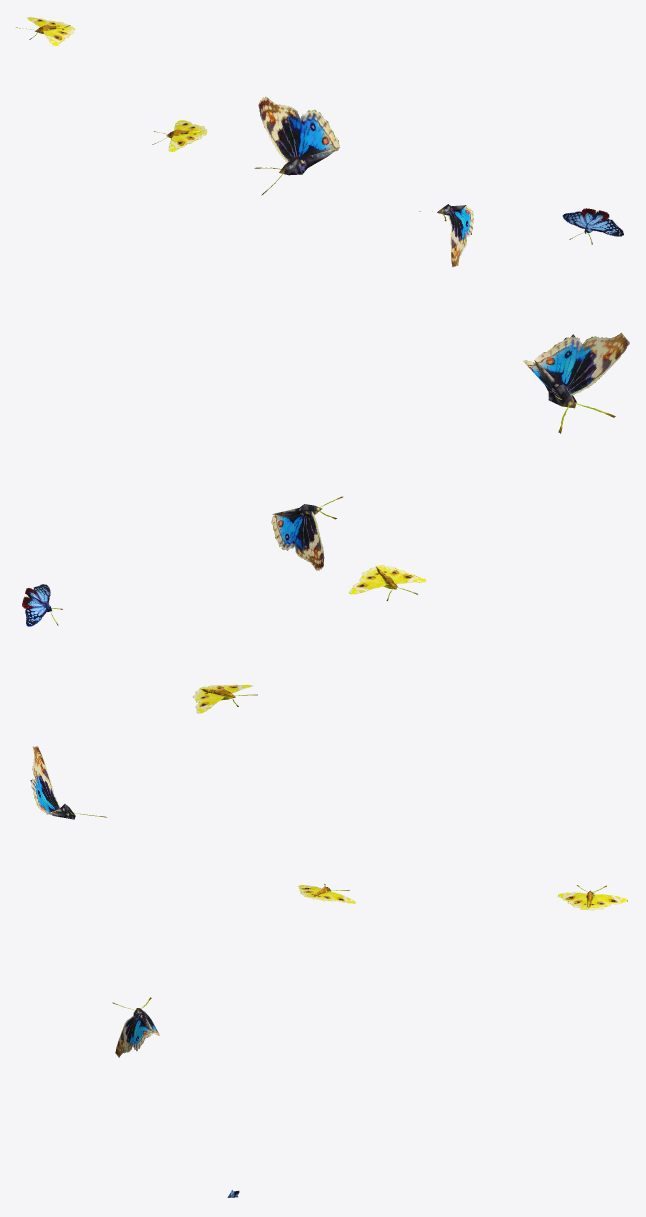
The model's file is nml-bd199.glb.
The picture shows the model from 3 angles, top to bottom: view 1: azimuth 30°, elevation 25°; view 2: azimuth 150°, elevation 25°; view 3: azimuth 270°, elevation 25°; orthographic projection. The views are drawn at different scales.
Visible parts, largest first — view 1: geom_node_0, geom_node_1, geom_node_3, geom_node_2, geom_node_4; view 2: geom_node_0, geom_node_1, geom_node_2, geom_node_3, geom_node_4; view 3: geom_node_0, geom_node_1, geom_node_4.
Boxes of the visible parts, x1=… form: geom_node_0: x1=254, y1=96, x2=339, y2=195; geom_node_1: x1=419, y1=204, x2=473, y2=267; geom_node_3: x1=562, y1=208, x2=623, y2=244; geom_node_2: x1=152, y1=120, x2=207, y2=151; geom_node_4: x1=16, y1=17, x2=74, y2=46; geom_node_0: x1=523, y1=332, x2=629, y2=433; geom_node_1: x1=271, y1=496, x2=342, y2=570; geom_node_2: x1=348, y1=565, x2=426, y2=600; geom_node_3: x1=22, y1=584, x2=62, y2=626; geom_node_4: x1=192, y1=684, x2=257, y2=713; geom_node_0: x1=30, y1=746, x2=106, y2=819; geom_node_1: x1=112, y1=997, x2=159, y2=1057; geom_node_4: x1=558, y1=885, x2=627, y2=910.
Size of the model in its own units: 2.23 by 1.4 by 2.76.
Materials: 5 (5 with a texture image).
